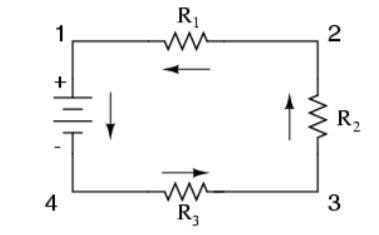Battery: (43, 68, 101, 153)
